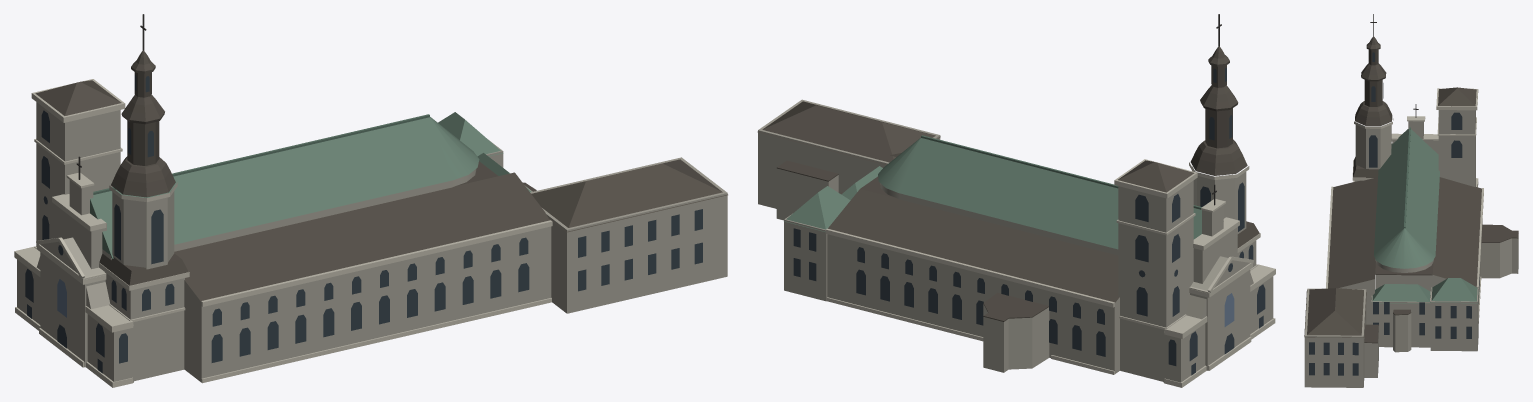
Rendered from notre-dame-de-quebec-far.glb.
3 renders of one model, left to right at view 1: azimuth 30°, elevation 25°; view 2: azimuth 150°, elevation 25°; view 3: azimuth 270°, elevation 25°, orthographic. The views are drawn at different scales.
Parts seen in each view (by area): view 1: notre-dame-de-quebec-0-stone, notre-dame-de-quebec-0-slate, notre-dame-de-quebec-0-copper, notre-dame-de-quebec-0-glass, notre-dame-de-quebec-0-trim, notre-dame-de-quebec-0-seam; view 2: notre-dame-de-quebec-0-stone, notre-dame-de-quebec-0-slate, notre-dame-de-quebec-0-copper, notre-dame-de-quebec-0-trim, notre-dame-de-quebec-0-glass, notre-dame-de-quebec-0-seam; view 3: notre-dame-de-quebec-0-slate, notre-dame-de-quebec-0-stone, notre-dame-de-quebec-0-copper, notre-dame-de-quebec-0-glass, notre-dame-de-quebec-0-trim, notre-dame-de-quebec-0-seam.
Boxes of the visible parts, box(x1,y1,x2,y2) form: notre-dame-de-quebec-0-stone: box(17, 102, 727, 382); notre-dame-de-quebec-0-slate: box(35, 50, 727, 301); notre-dame-de-quebec-0-copper: box(90, 112, 531, 258); notre-dame-de-quebec-0-glass: box(25, 74, 702, 373); notre-dame-de-quebec-0-trim: box(14, 79, 552, 387); notre-dame-de-quebec-0-seam: box(93, 114, 429, 194); notre-dame-de-quebec-0-stone: box(758, 99, 1273, 382); notre-dame-de-quebec-0-slate: box(757, 46, 1259, 321); notre-dame-de-quebec-0-copper: box(784, 138, 1237, 249); notre-dame-de-quebec-0-trim: box(825, 159, 1275, 387); notre-dame-de-quebec-0-glass: box(793, 67, 1265, 375); notre-dame-de-quebec-0-seam: box(921, 135, 1201, 209); notre-dame-de-quebec-0-slate: box(1304, 36, 1518, 343); notre-dame-de-quebec-0-stone: box(1304, 110, 1518, 387); notre-dame-de-quebec-0-copper: box(1371, 129, 1478, 303); notre-dame-de-quebec-0-glass: box(1309, 52, 1479, 375); notre-dame-de-quebec-0-trim: box(1326, 88, 1483, 323); notre-dame-de-quebec-0-seam: box(1404, 127, 1410, 228).
Size of the model in its own units: 90.87 by 52.3 by 47.24.
